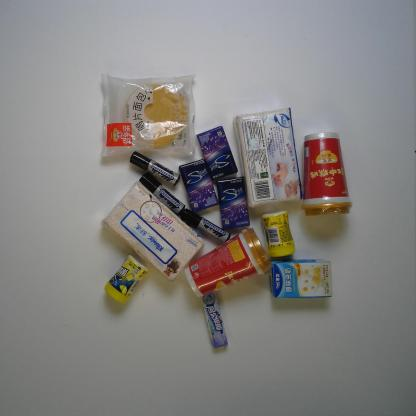Candy: (198, 288, 231, 353)
Dessert: (94, 69, 199, 160)
Gum: (193, 123, 240, 183), (101, 251, 150, 307), (176, 156, 220, 215), (212, 174, 252, 232), (258, 205, 298, 260)
Instant Drink: (182, 223, 274, 301), (298, 128, 357, 219)
Milk: (265, 255, 336, 302)
Stationery: (136, 170, 188, 216), (126, 148, 182, 188), (178, 206, 232, 245)
Tissue: (99, 178, 206, 286), (230, 103, 305, 211)
